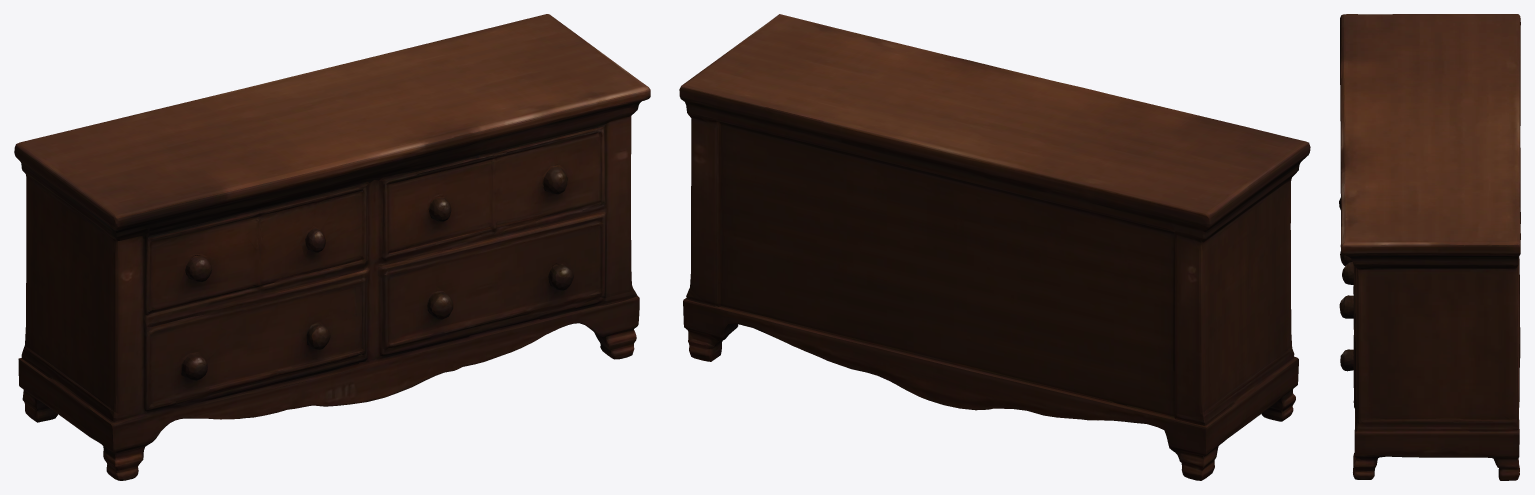
File: drawers_horizontal.glb
3 views of the same model, side by side, from view 1: azimuth 30°, elevation 25°; view 2: azimuth 150°, elevation 25°; view 3: azimuth 270°, elevation 25° (orthographic). The views are drawn at different scales.
Parts seen in each view (by area): view 1: geometry_0; view 2: geometry_0; view 3: geometry_0.
Part boxes in pixels (x1,y1,x2,y2): geometry_0: (14,14,650,480); geometry_0: (679,14,1310,480); geometry_0: (1339,14,1520,480).
Size of the model in its own units: 1 by 0.4892 by 0.3324.
Materials: 1 (1 with a texture image).
